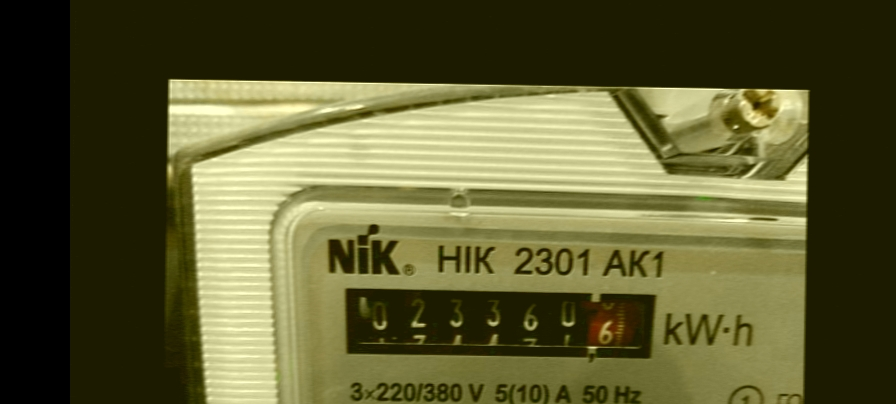0: (370, 298, 392, 331), (561, 297, 579, 328)
2: (408, 295, 432, 330)
3: (446, 296, 468, 328), (485, 295, 505, 327)
6: (521, 299, 542, 331), (596, 315, 618, 345)
screen: (328, 270, 671, 374)
